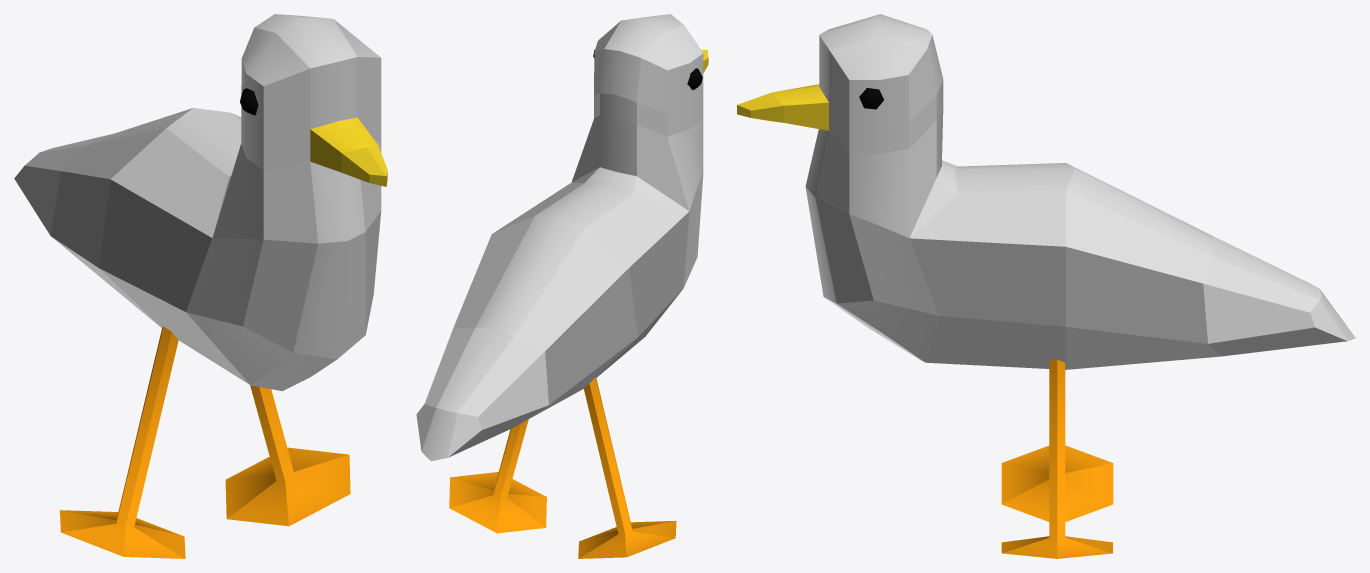
The model's file is Bird_Neutral.fbx.
3 renders of one model, left to right at view 1: azimuth 30°, elevation 25°; view 2: azimuth 150°, elevation 25°; view 3: azimuth 270°, elevation 25°, orthographic. The views are drawn at different scales.
Visible parts, largest first — view 1: polySurface1; view 2: polySurface1; view 3: polySurface1.
Part boxes in pixels (bbox=[...]): polySurface1: bbox=[14, 14, 387, 558]; polySurface1: bbox=[416, 14, 708, 558]; polySurface1: bbox=[737, 14, 1355, 558].
Bounding box in the file's own units: 40.89 × 79.72 × 86.88.
